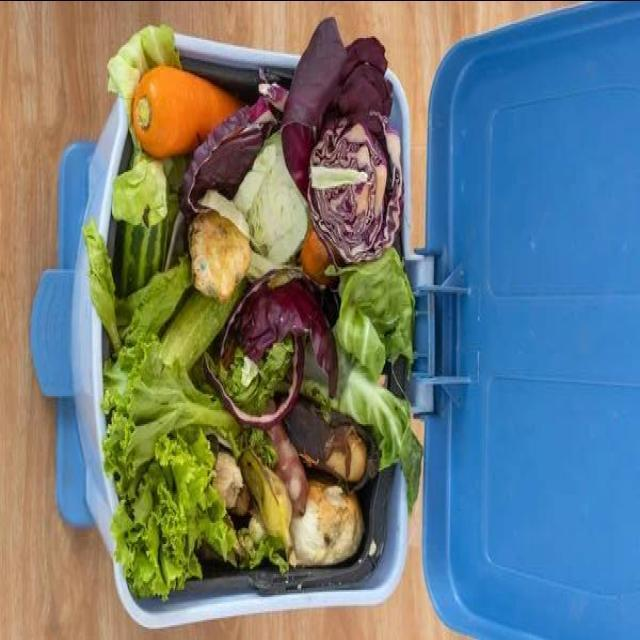Garbage: (96, 43, 415, 591)
